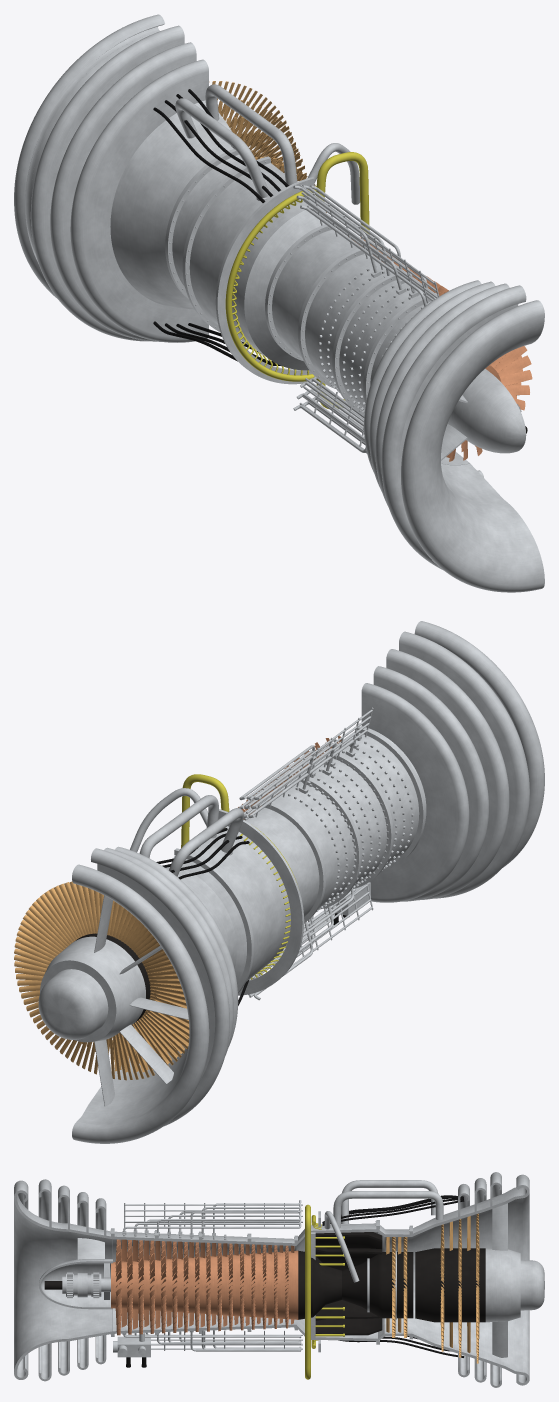
3 views of the same model, one above another, from view 1: azimuth 30°, elevation 25°; view 2: azimuth 150°, elevation 25°; view 3: azimuth 270°, elevation 25° (orthographic). The views are drawn at different scales.
Parts seen in each view (by area): view 1: Casing_Exhaust, Casing_Intake, Casing_Rear_Flare, Casing_Center, External_Piping, VSV_Tubing, Fuel_System, Centerbody_Bearing, Power_Turbine_Rotor, Compressor_Rotor, Compressor_Stators; view 2: Casing_Intake, Casing_Exhaust, Casing_Center, Power_Turbine_Rotor, Casing_Rear_Flare, Exhaust_Centerbody, VSV_Tubing, External_Piping, Fuel_System, Compressor_Stators, Turbine_Stators; view 3: Compressor_Rotor, Casing_Intake, Casing_Rear_Flare, VSV_Tubing, Power_Turbine_Rotor, Spool_Shaft, Exhaust_Centerbody, External_Piping, Casing_Center, Combustor_Liner, Centerbody_Bearing, Casing_Exhaust (+5 smaller).
Part boxes in pixels (bbox=[...]): Casing_Exhaust: bbox=[14, 14, 208, 342]; Casing_Intake: bbox=[364, 280, 544, 592]; Casing_Rear_Flare: bbox=[31, 32, 325, 370]; Casing_Center: bbox=[255, 217, 469, 465]; External_Piping: bbox=[153, 84, 360, 365]; VSV_Tubing: bbox=[293, 184, 439, 453]; Fuel_System: bbox=[215, 152, 369, 408]; Centerbody_Bearing: bbox=[447, 369, 527, 453]; Power_Turbine_Rotor: bbox=[209, 81, 306, 181]; Compressor_Rotor: bbox=[351, 237, 532, 461]; Compressor_Stators: bbox=[318, 265, 455, 458]; Casing_Intake: bbox=[357, 621, 544, 902]; Casing_Exhaust: bbox=[72, 846, 238, 1143]; Casing_Center: bbox=[245, 733, 419, 922]; Power_Turbine_Rotor: bbox=[14, 881, 189, 1080]; Casing_Rear_Flare: bbox=[77, 826, 290, 1124]; Exhaust_Centerbody: bbox=[38, 895, 188, 1106]; VSV_Tubing: bbox=[238, 707, 373, 1000]; External_Piping: bbox=[130, 788, 249, 1005]; Fuel_System: bbox=[181, 774, 304, 995]; Compressor_Stators: bbox=[288, 740, 414, 911]; Turbine_Stators: bbox=[113, 951, 189, 1072]; Compressor_Rotor: bbox=[111, 1239, 298, 1335]; Casing_Intake: bbox=[14, 1179, 114, 1381]; Casing_Rear_Flare: bbox=[303, 1187, 522, 1374]; VSV_Tubing: bbox=[122, 1200, 302, 1351]; Power_Turbine_Rotor: bbox=[415, 1213, 485, 1363]; Spool_Shaft: bbox=[298, 1250, 413, 1319]; Exhaust_Centerbody: bbox=[485, 1200, 544, 1357]; External_Piping: bbox=[322, 1180, 464, 1357]; Casing_Center: bbox=[113, 1230, 302, 1335]; Combustor_Liner: bbox=[315, 1232, 382, 1335]; Centerbody_Bearing: bbox=[38, 1259, 112, 1309]; Casing_Exhaust: bbox=[458, 1172, 529, 1387].
Size of the model in its own units: 1.96 by 2.32 by 5.44.
Materials: 6 (6 with a texture image).
